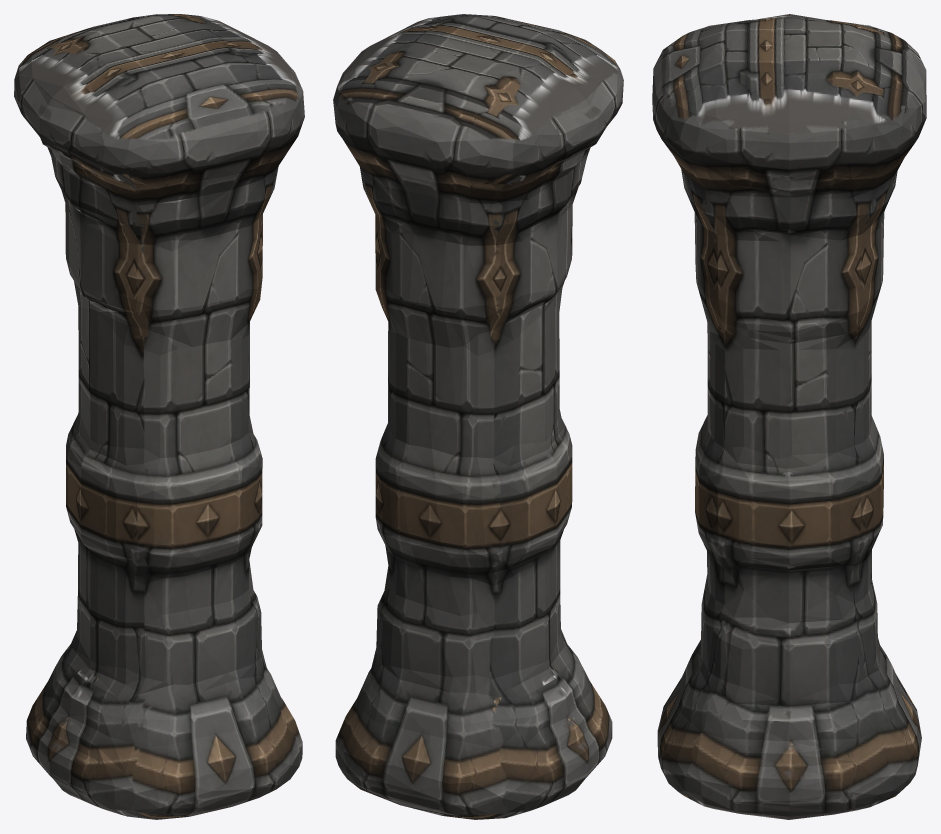
The model's file is SM_Dungeon_Pillar_A_LOD0.glb.
The picture shows the model from 3 angles, left to right: view 1: azimuth 30°, elevation 25°; view 2: azimuth 150°, elevation 25°; view 3: azimuth 270°, elevation 25°; orthographic projection.
Visible parts, largest first — view 1: SM_Dungeon_Pillar_A_LOD0; view 2: SM_Dungeon_Pillar_A_LOD0; view 3: SM_Dungeon_Pillar_A_LOD0.
Part boxes in pixels (x1,y1,x2,y2): SM_Dungeon_Pillar_A_LOD0: (14, 14, 304, 819); SM_Dungeon_Pillar_A_LOD0: (333, 14, 623, 819); SM_Dungeon_Pillar_A_LOD0: (652, 14, 926, 819).
Size of the model in its own units: 1 by 3 by 0.9932.
Materials: 1 (1 with a texture image).
